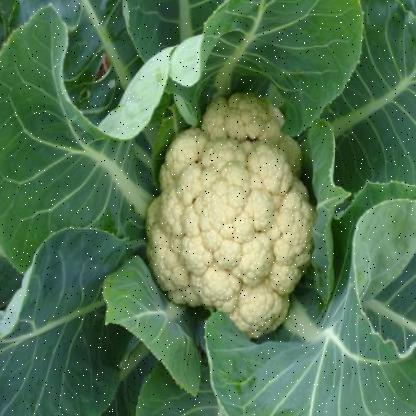cauliflower: (120, 61, 347, 354)
